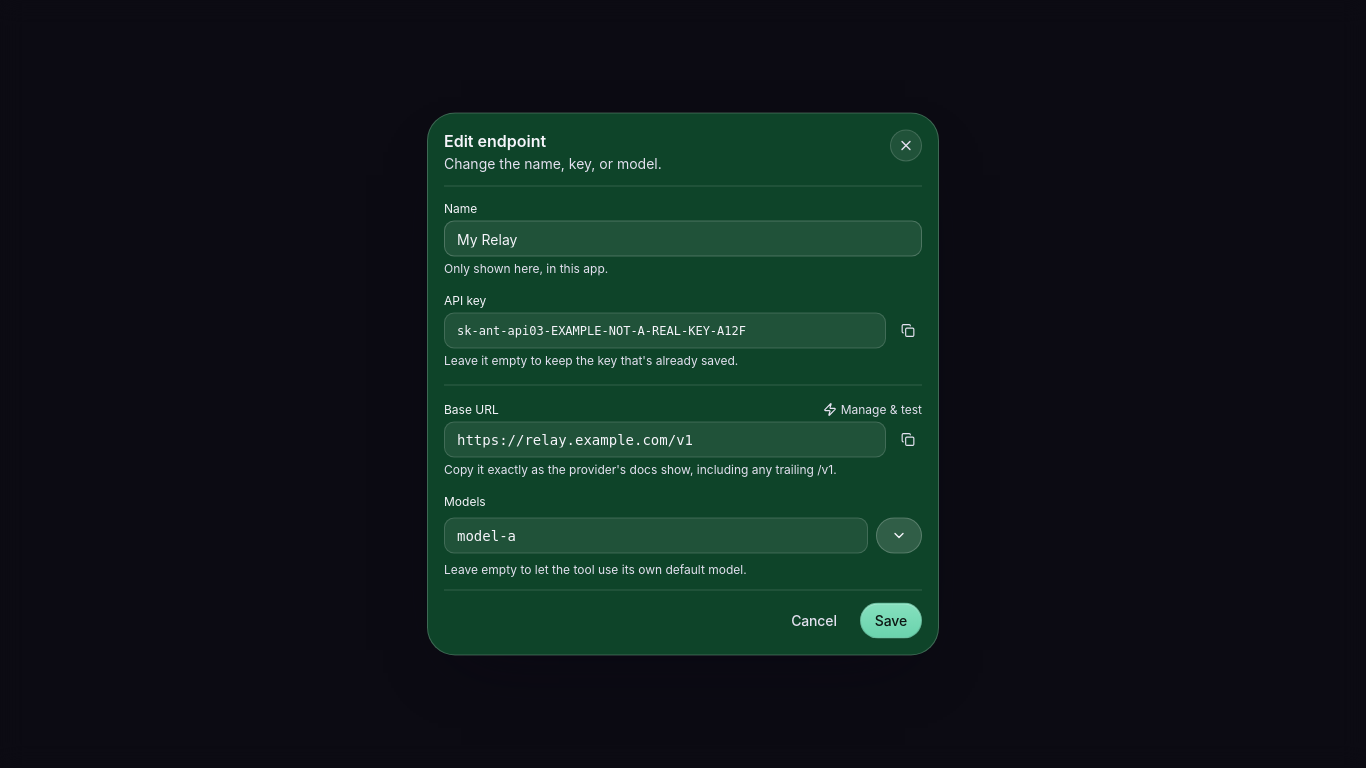
ProviderFormModal › does not read a model list for a key that is not saved yet
Step 1. Clear the field labelled "API key" → (665, 330), box [444, 312, 886, 348]
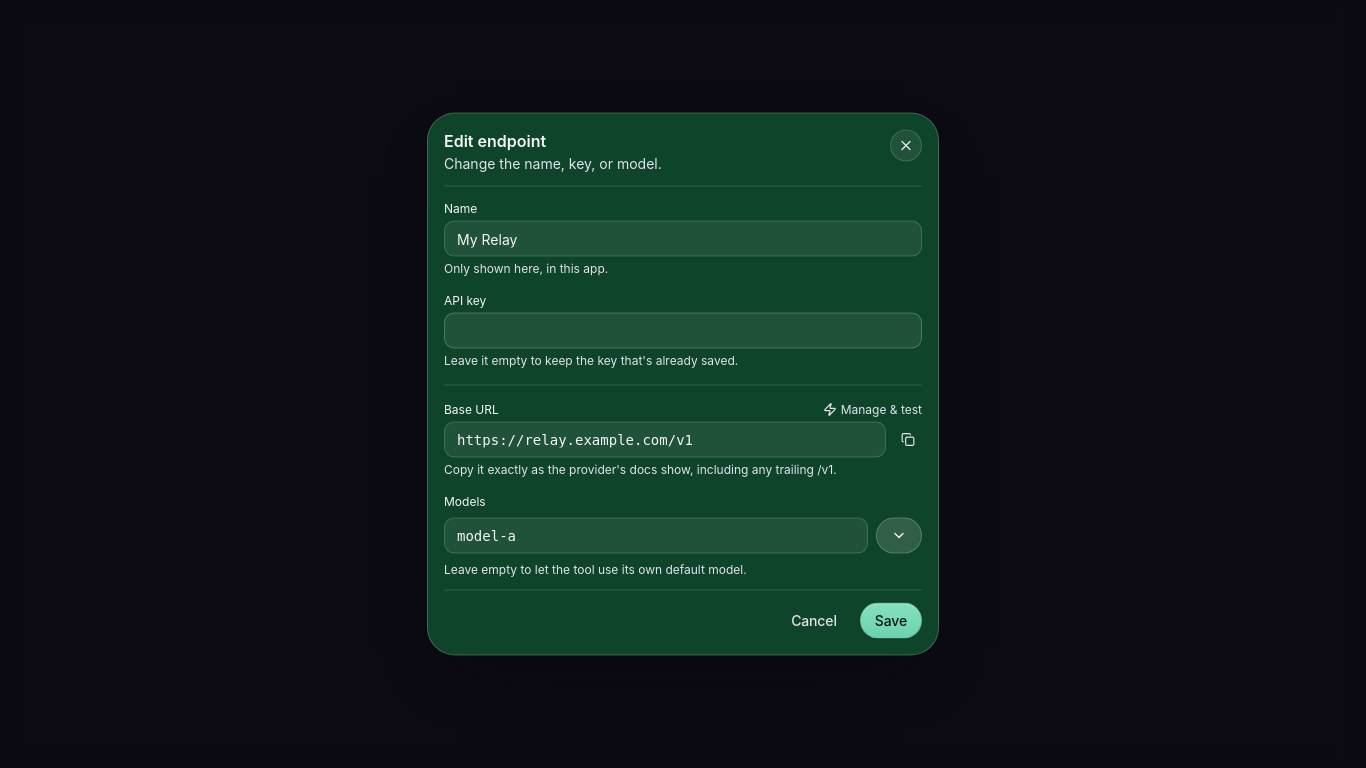
Step 2. Type "sk-new-123" into the field labelled "API key" → (683, 330), box [444, 312, 922, 348]
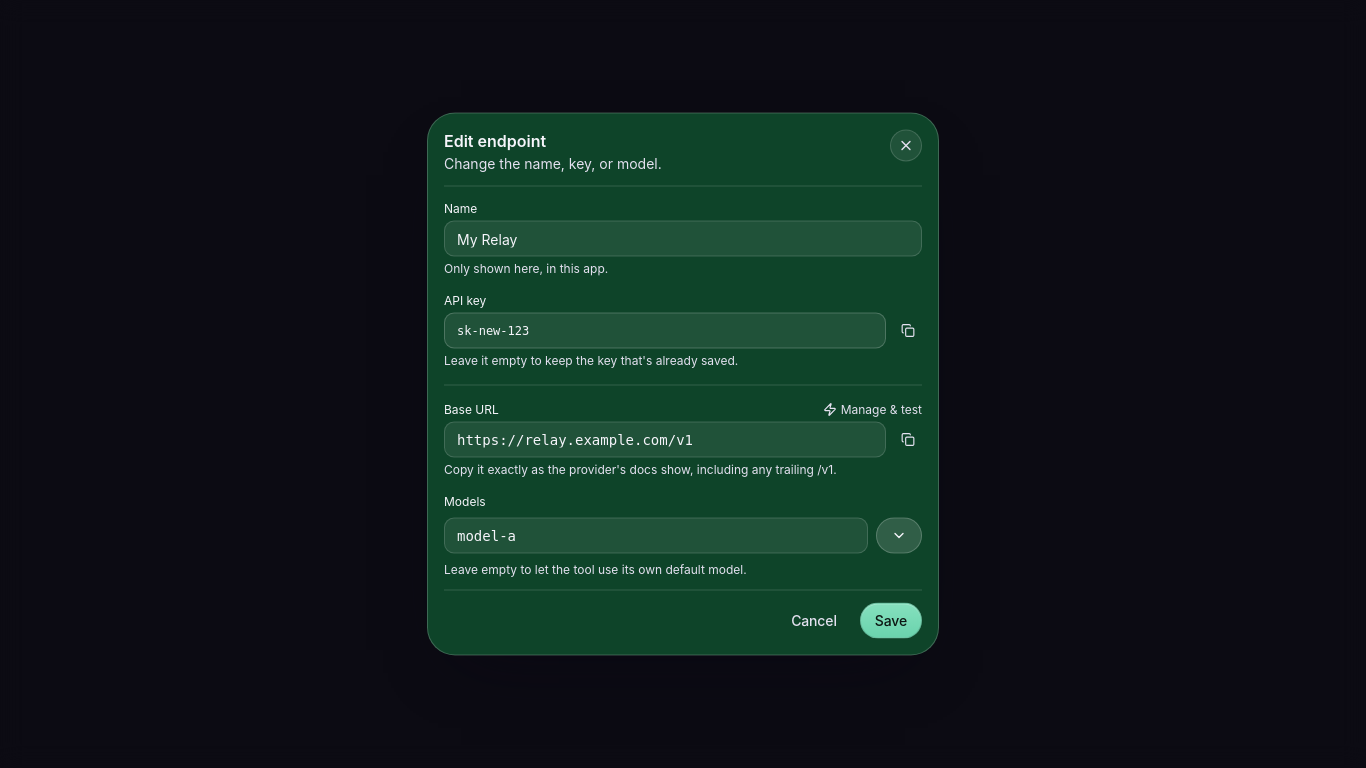
Step 3. Click the button named "Choose from the endpoint's model list" → (899, 536), box [876, 518, 922, 554]
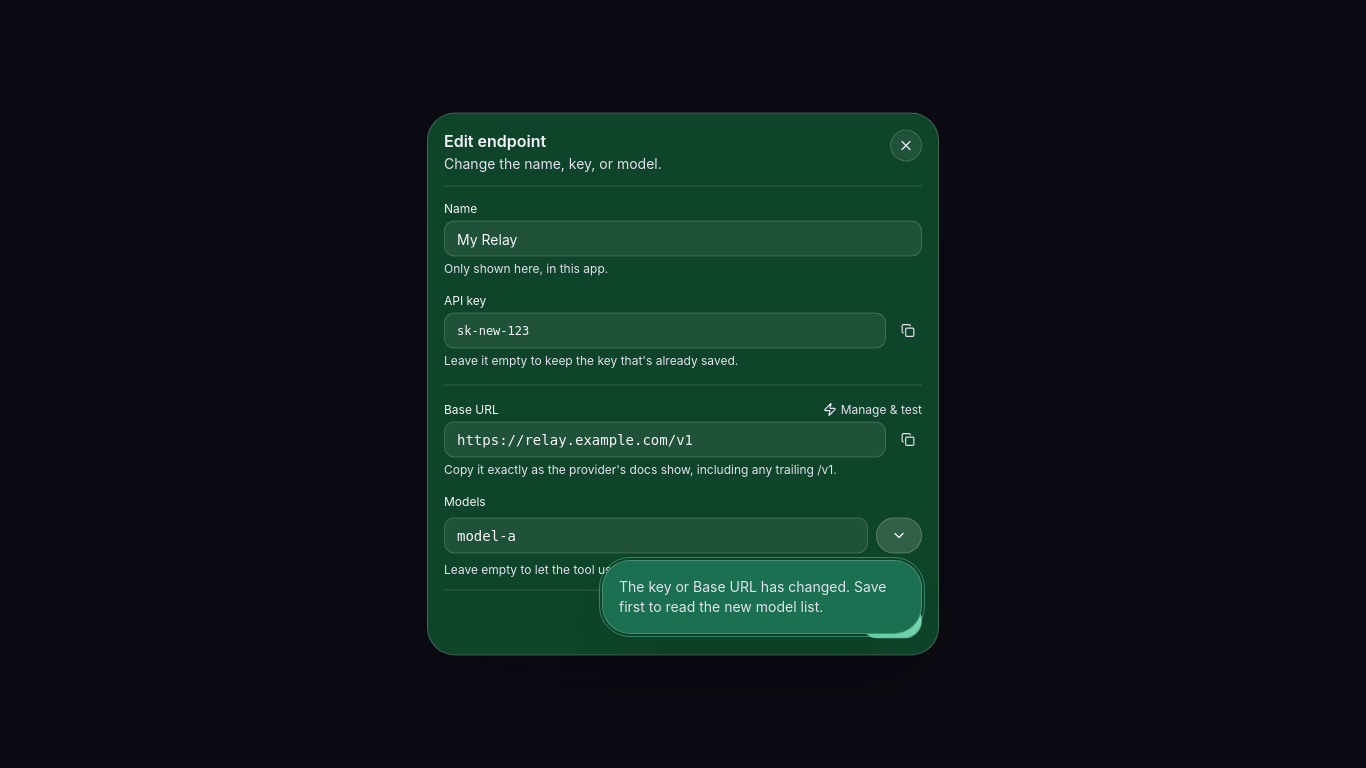
expect the text "The key or Base URL has changed. Save first to read the new model list." is shown: met, box [619, 577, 905, 617]
